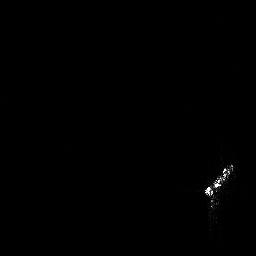ship: (204, 162, 235, 219)
